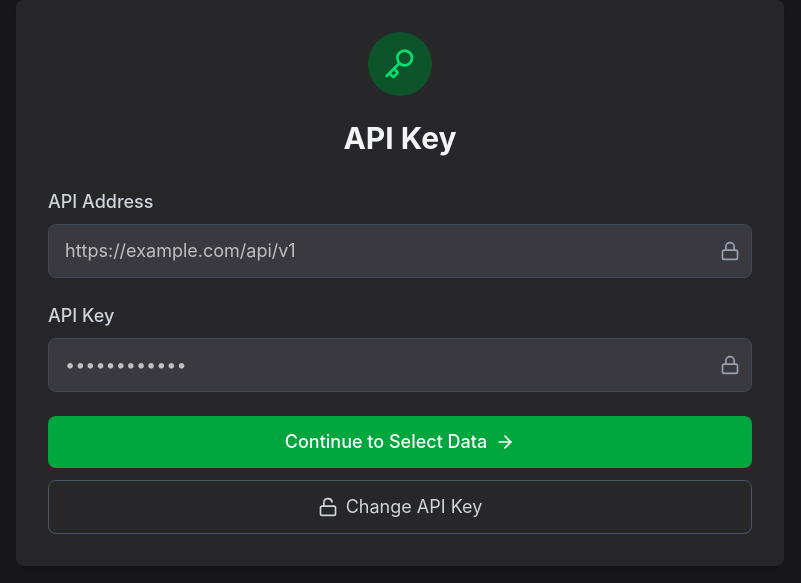
Scenario: ApiKeyStep › clears the key and address and re-enables editing when changing the API key
Click the button "Change API Key": [400, 507] box left=48, top=480, right=752, bottom=534
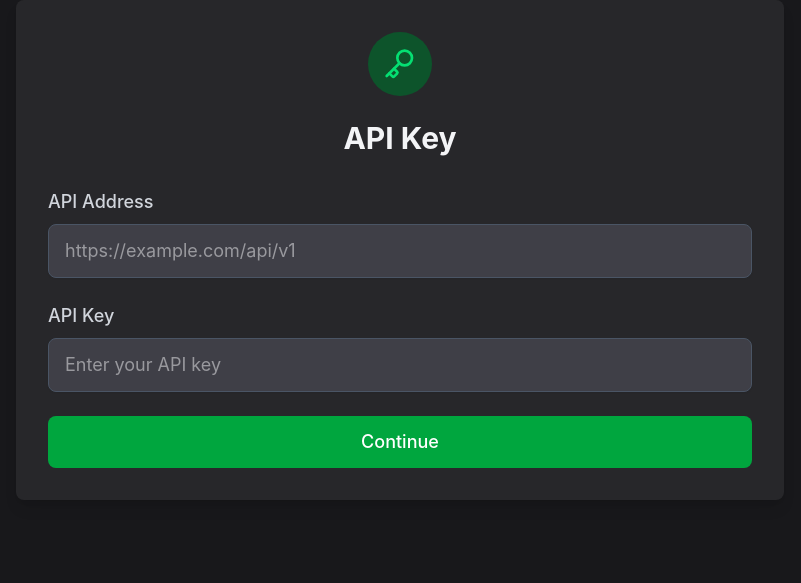
Check: the password field labelled "API Key" is enabled, box left=48, top=338, right=752, bottom=392
Check: the password field labelled "API Key" is empty, box left=48, top=338, right=752, bottom=392
Check: the field labelled "API Address" is enabled, box left=48, top=224, right=752, bottom=278
